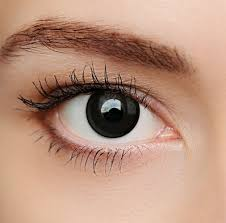pupil: (87, 91, 140, 137)
